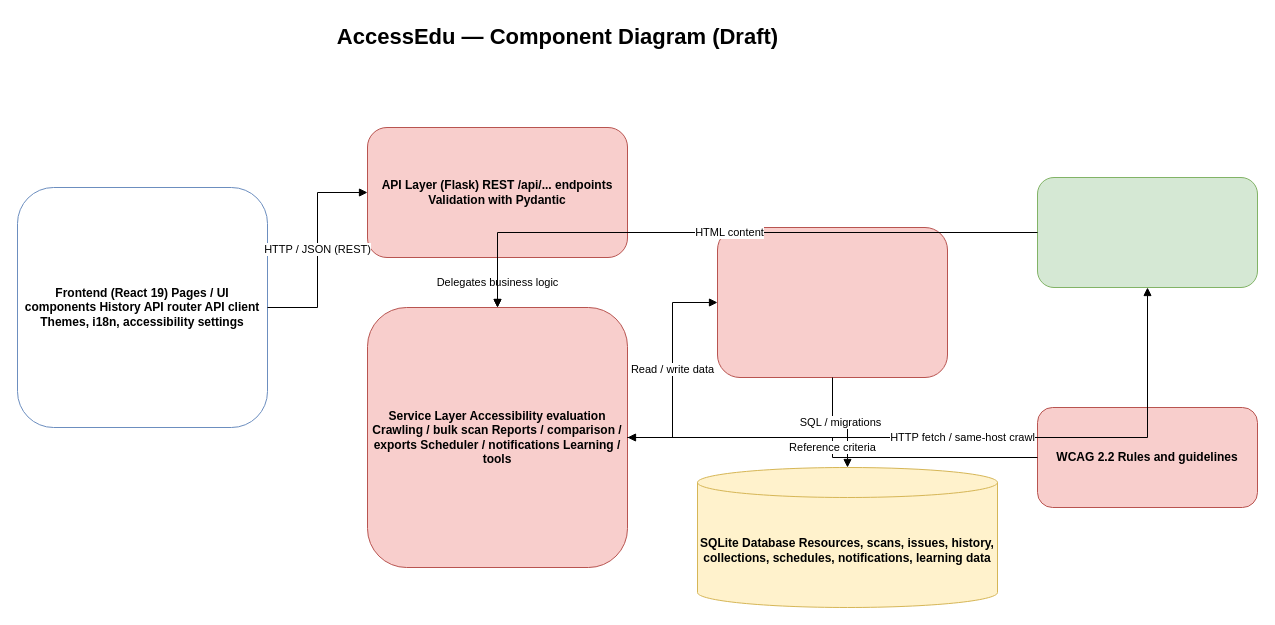
The diagram is 1275 pixels wide and 625 high, and some of its shapes have lost their labels. Each missing label, with the box of its shape:
Educational Websites / LMS HTML pages and assets: (1036, 176, 1258, 288)
Repository Layer Data access interfaces Parameterized SQL: (716, 226, 948, 378)
